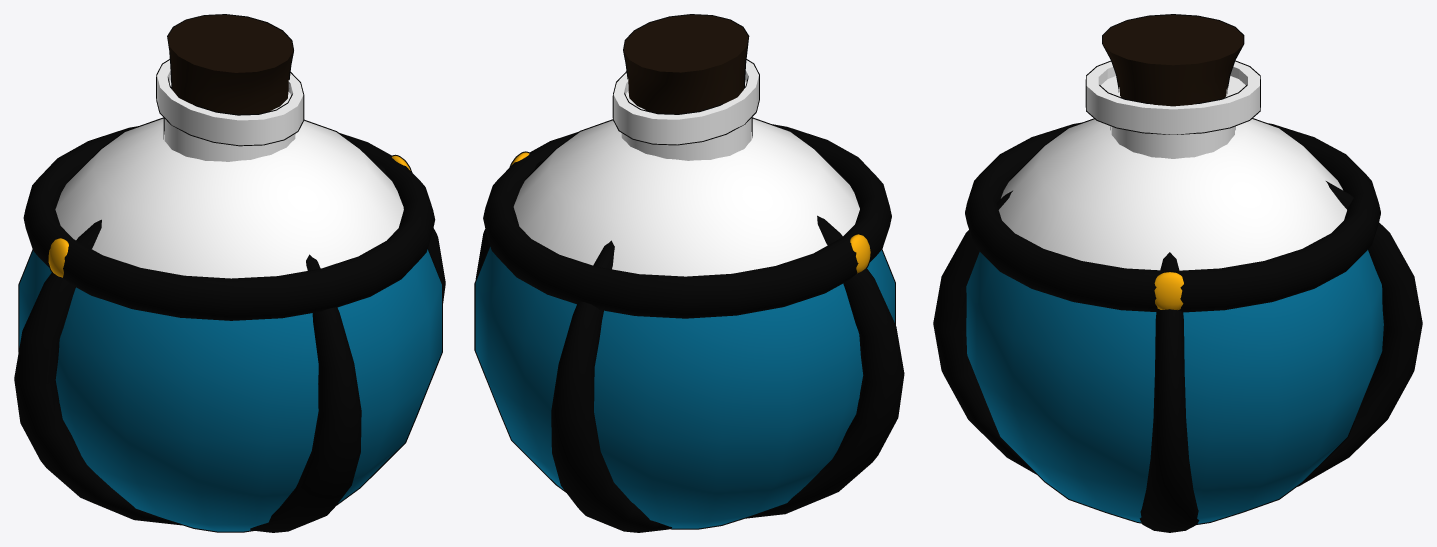
The model's file is Potion.FBX.
3 renders of one model, left to right at view 1: azimuth 30°, elevation 25°; view 2: azimuth 150°, elevation 25°; view 3: azimuth 270°, elevation 25°, orthographic.
Visible parts, largest first — view 1: Sphere006; view 2: Sphere006; view 3: Sphere006.
Boxes of the visible parts, x1,y1,x2,y2 form: Sphere006: (14, 14, 445, 532); Sphere006: (474, 14, 904, 532); Sphere006: (933, 14, 1422, 532).
Size of the model in its own units: 14.14 by 14.92 by 14.14.
